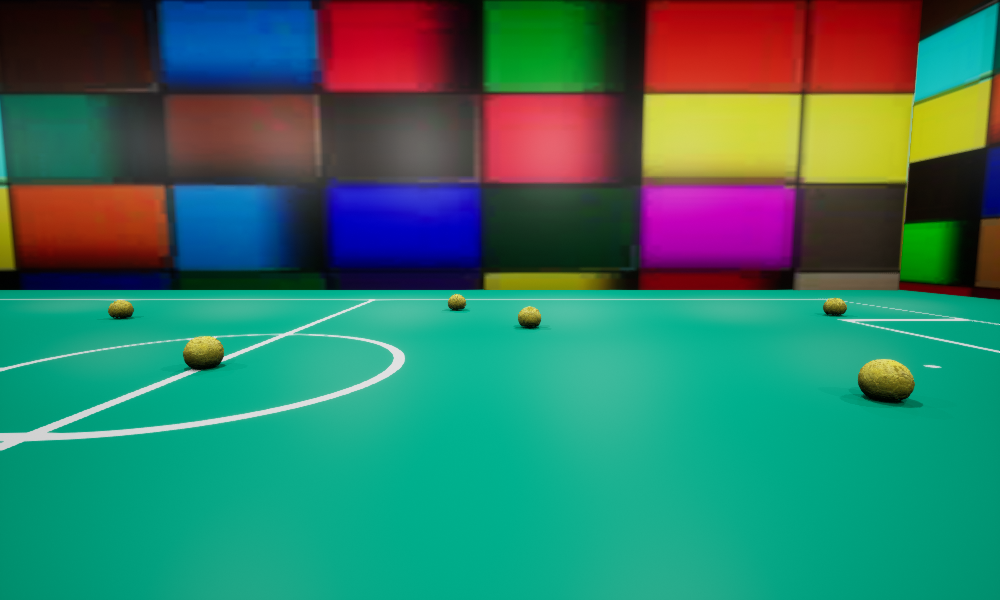b: (858, 359, 914, 402), (183, 336, 223, 368), (518, 306, 540, 327), (108, 300, 133, 317), (823, 298, 846, 315), (448, 294, 465, 310)
